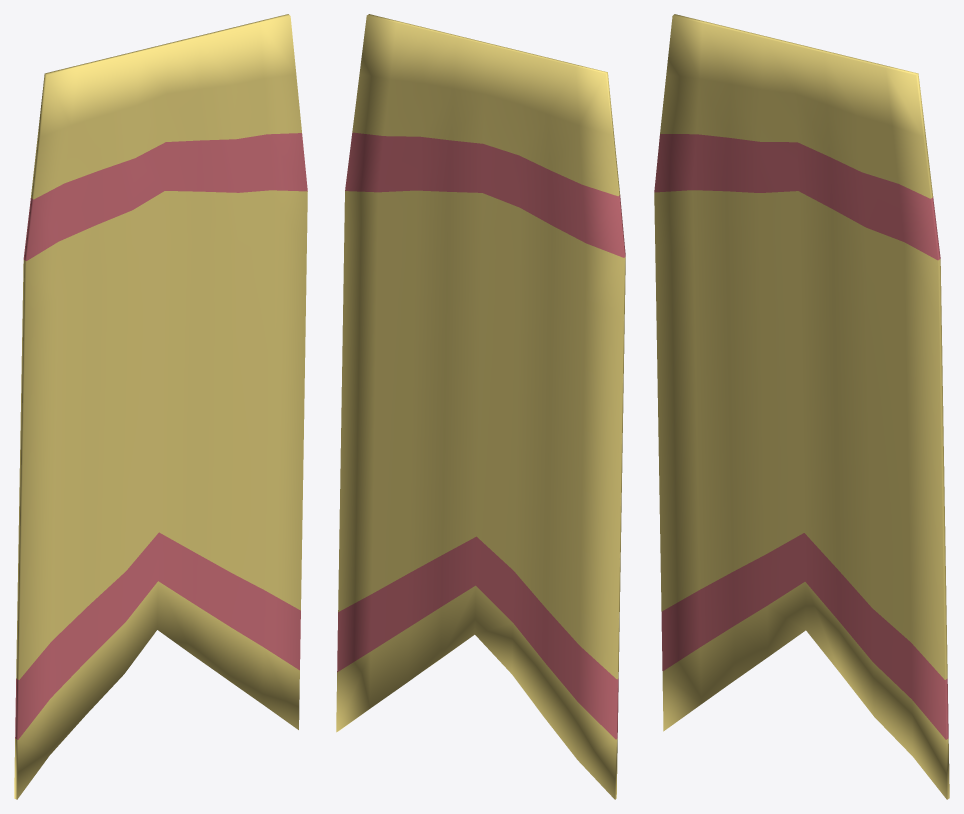
File: banner_yellow_d.glb
3 views of the same model, side by side, from view 1: azimuth 30°, elevation 25°; view 2: azimuth 150°, elevation 25°; view 3: azimuth 330°, elevation 25° (orthographic). The views are drawn at different scales.
Parts seen in each view (by area): view 1: banner_yellow_d; view 2: banner_yellow_d; view 3: banner_yellow_d.
Boxes of the visible parts, left/top/right/bottom form: banner_yellow_d: left=14, top=14, right=307, bottom=799; banner_yellow_d: left=336, top=14, right=625, bottom=799; banner_yellow_d: left=654, top=14, right=949, bottom=799.
Bounding box in the file's own units: 1.1 × 2.7 × 0.1047.
